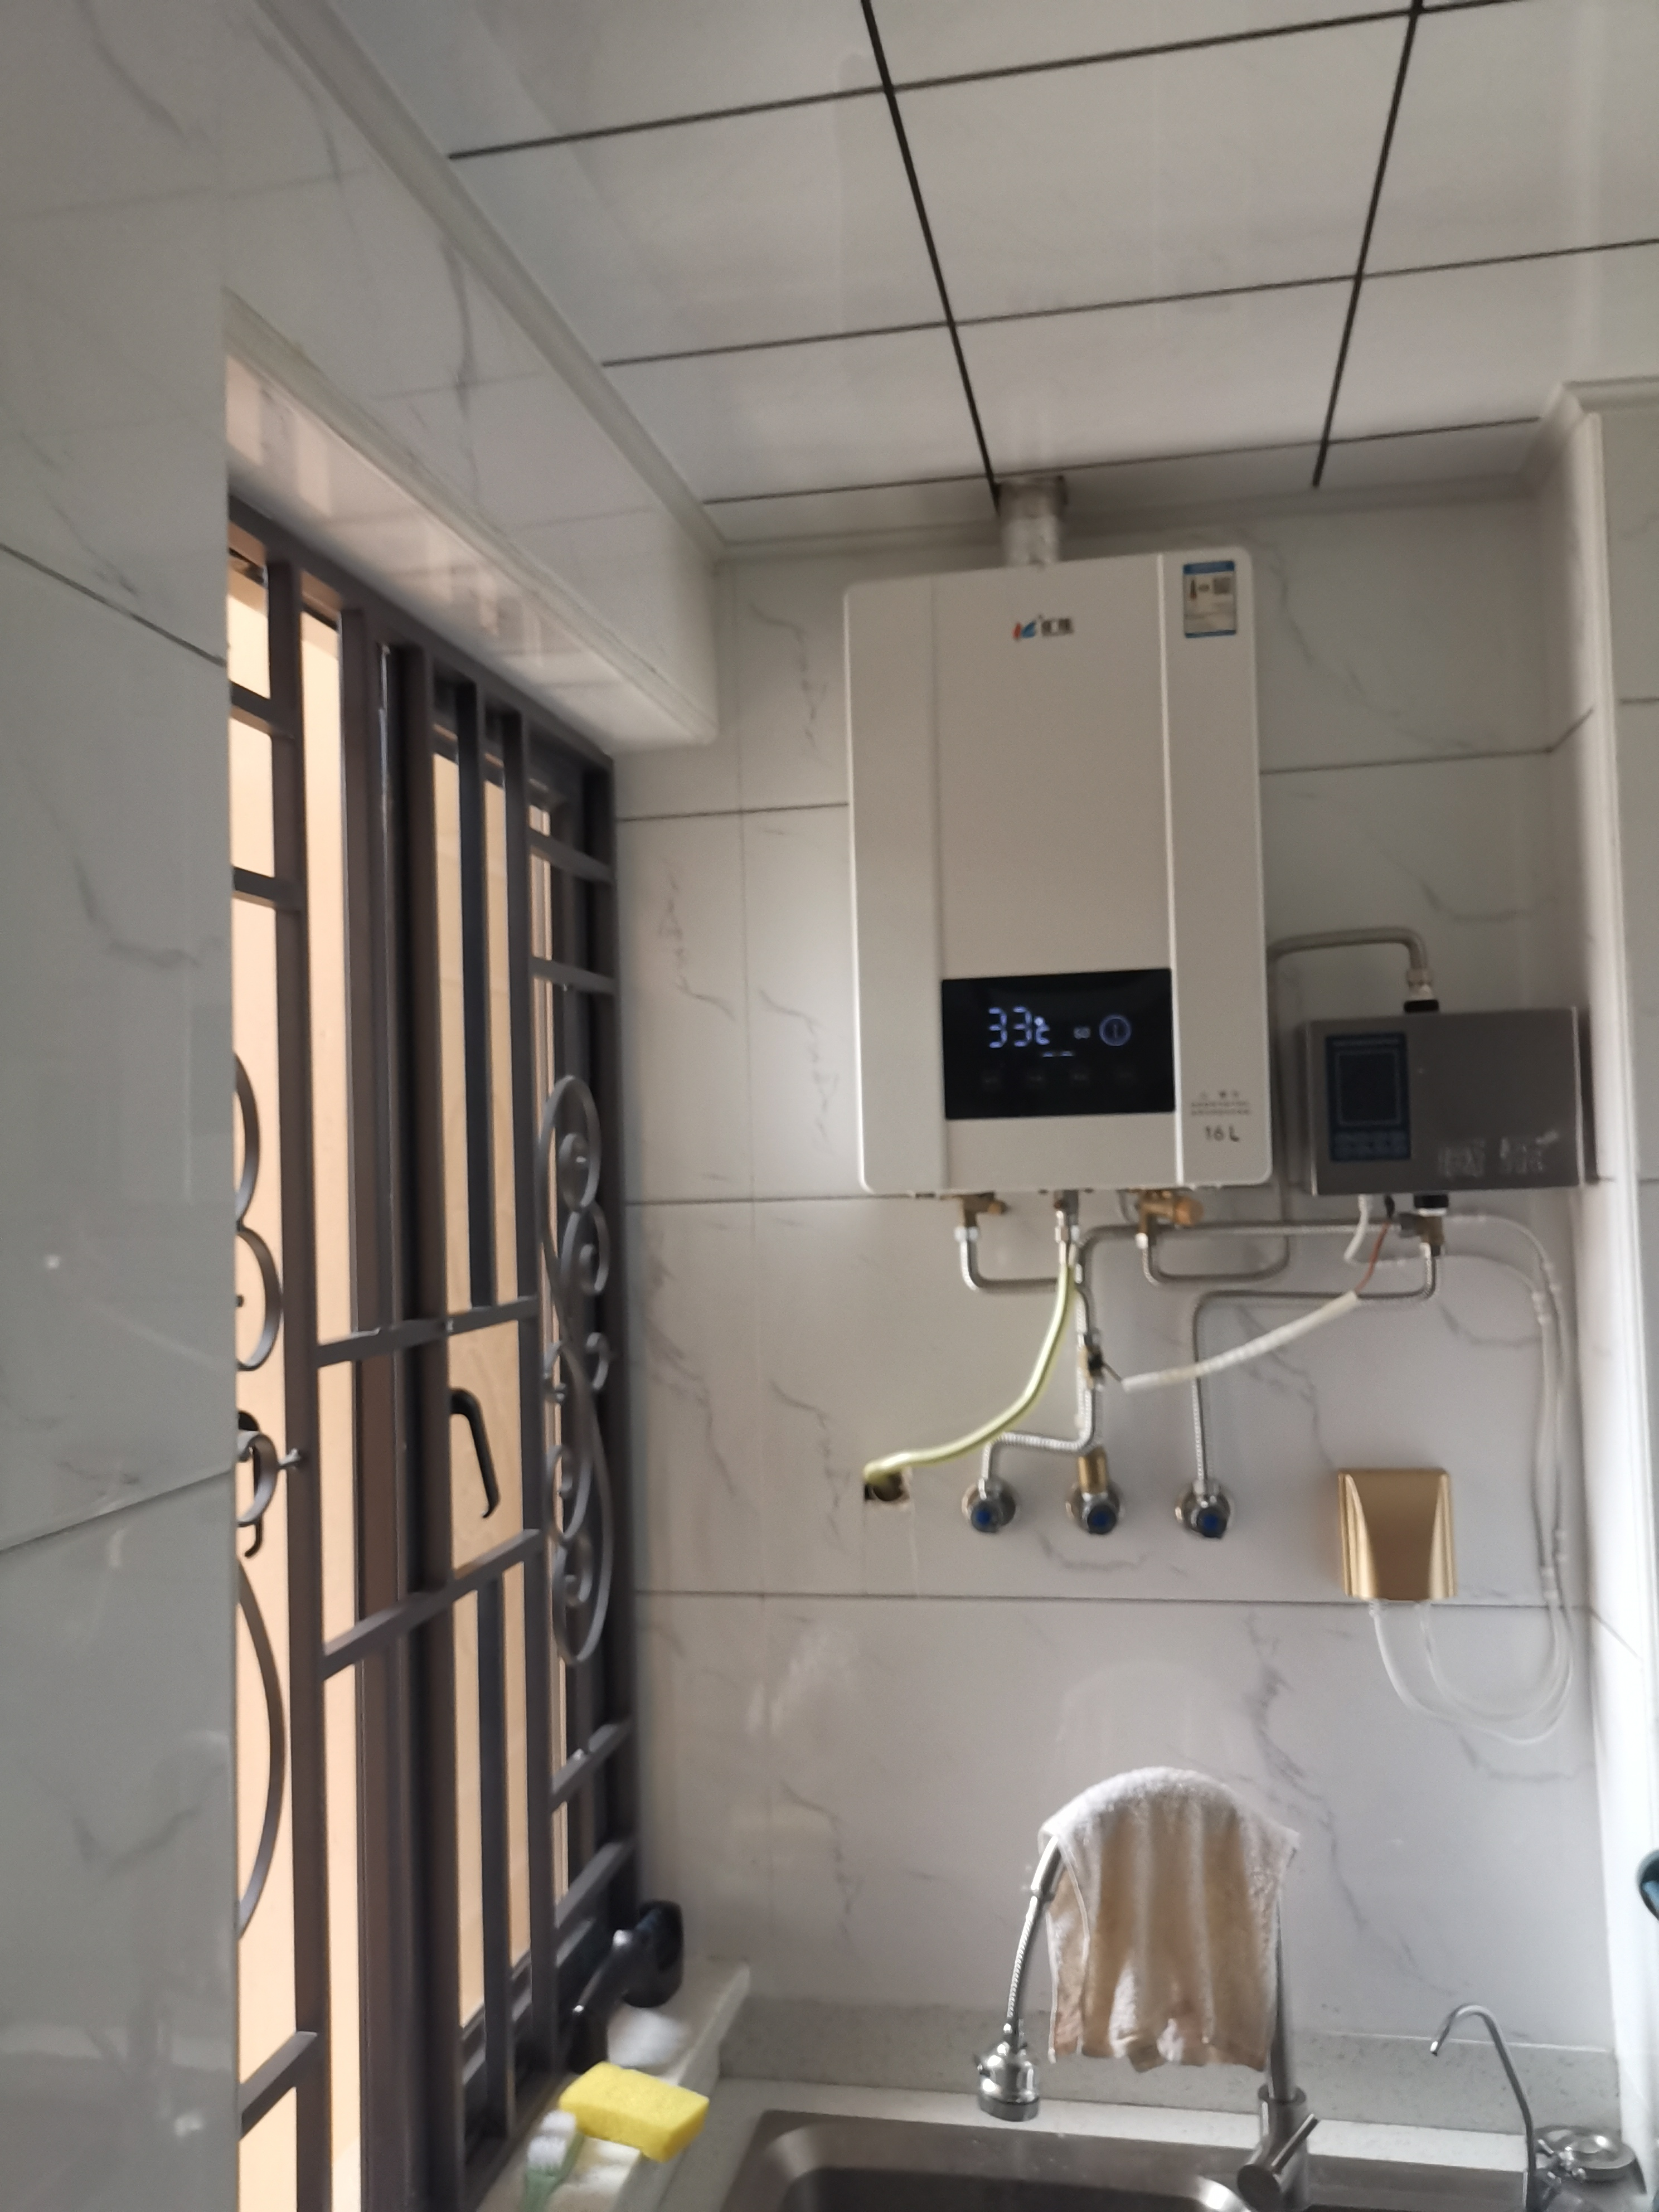loudou: (993, 611, 1105, 651)
